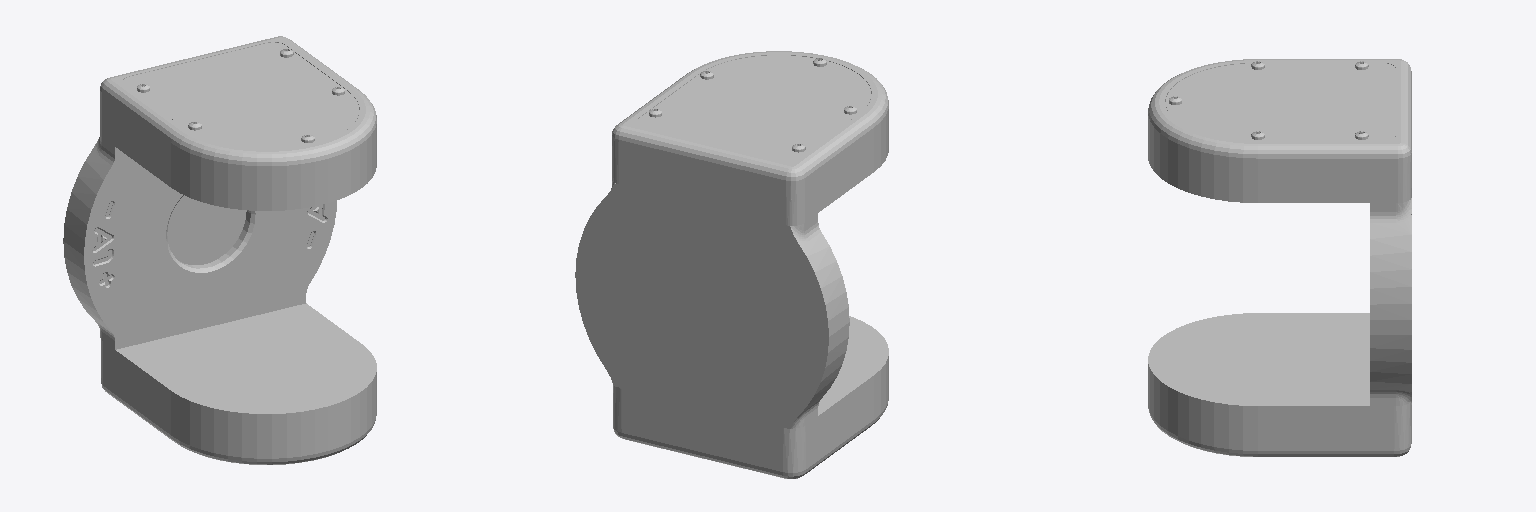
File: meca500link_1.obj
3 views of the same model, side by side, from view 1: azimuth 30°, elevation 25°; view 2: azimuth 150°, elevation 25°; view 3: azimuth 270°, elevation 25° (orthographic).
Visible parts, largest first — view 1: Solid2; view 2: Solid2; view 3: Solid2.
Boxes of the visible parts, x1,y1,x2,y2 form: Solid2: [63, 36, 376, 464]; Solid2: [575, 51, 888, 478]; Solid2: [1148, 59, 1411, 456].
Size of the model in its own units: 0.085 by 0.1014 by 0.0765.